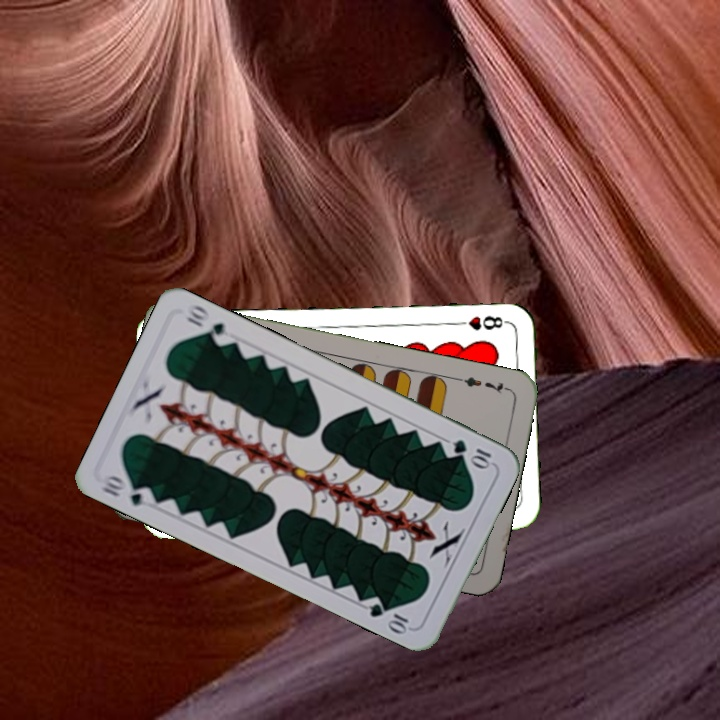E7: (453, 373, 512, 396)
G10: (96, 471, 158, 509), (448, 435, 495, 471)
H8: (451, 311, 510, 333)
